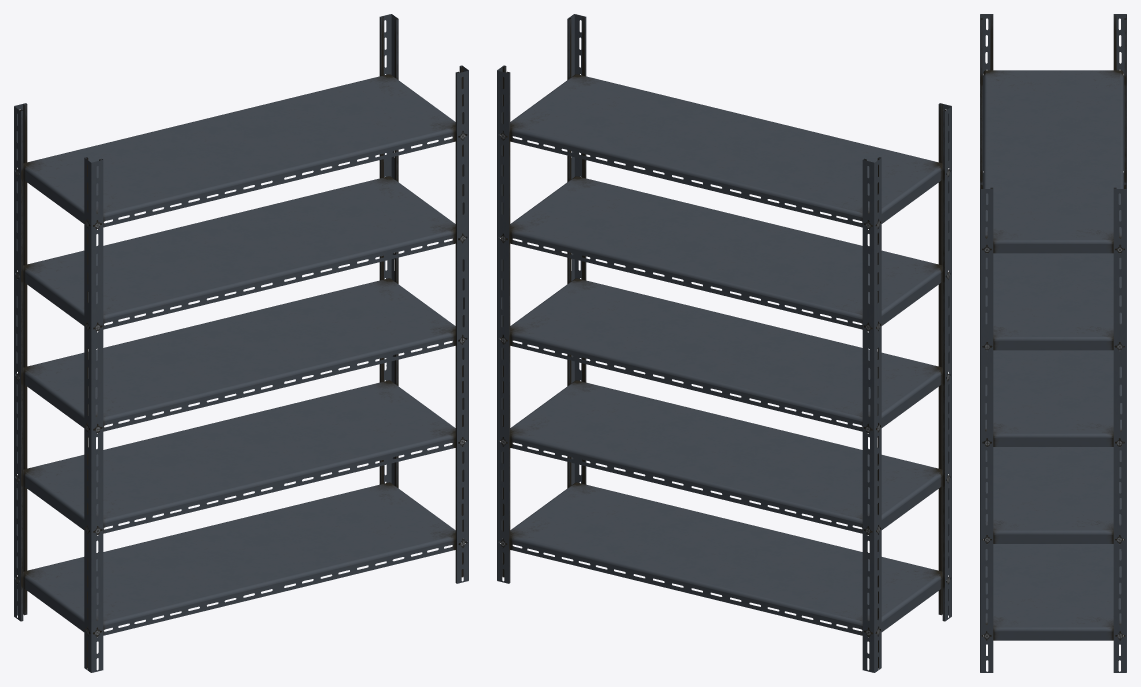
Rendered from metal_shelf_-_5mb.glb.
3 renders of one model, left to right at view 1: azimuth 30°, elevation 25°; view 2: azimuth 150°, elevation 25°; view 3: azimuth 270°, elevation 25°, orthographic. The views are drawn at different scales.
Parts seen in each view (by area): view 1: Cloner_1; view 2: Cloner_1; view 3: Cloner_1.
Part boxes in pixels (x1,y1,x2,y2): Cloner_1: (14, 14, 468, 672); Cloner_1: (497, 14, 951, 672); Cloner_1: (980, 14, 1126, 672).
Size of the model in its own units: 1.55 by 2 by 0.55.
1 material, 1 textured.
